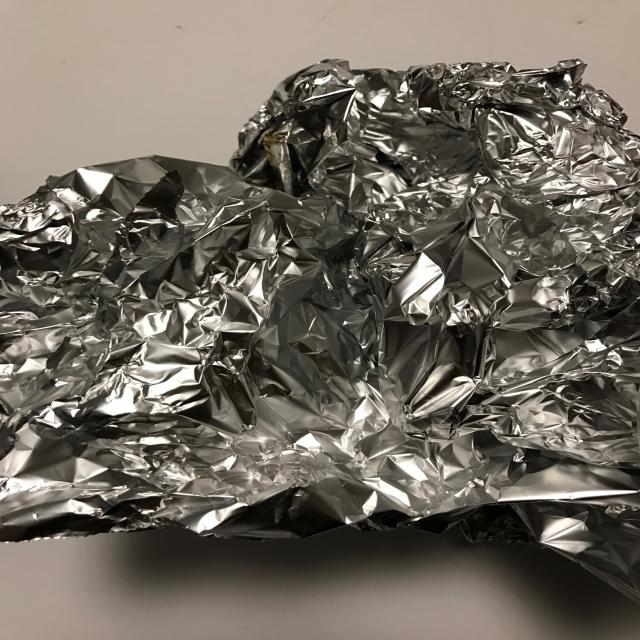metal: (1, 57, 639, 601)
